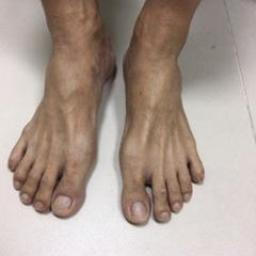Dorsal View -Both Feet-: (1, 13, 220, 236)
